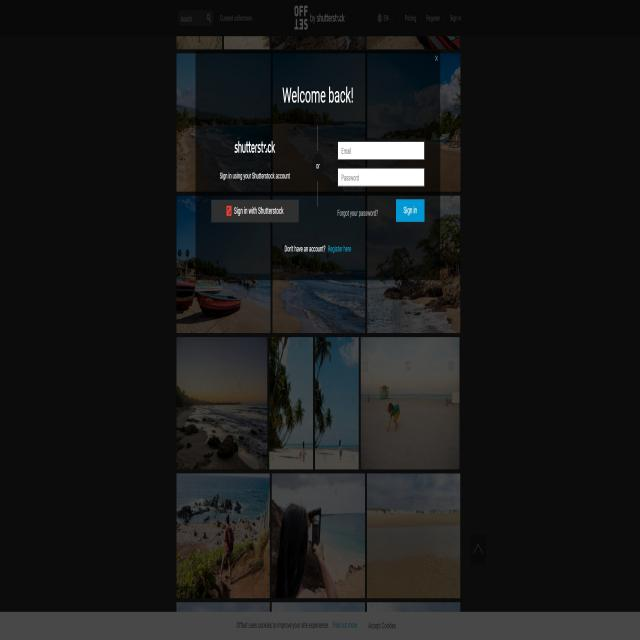menu-bar: (374, 8, 464, 25)
search: (173, 13, 214, 25)
